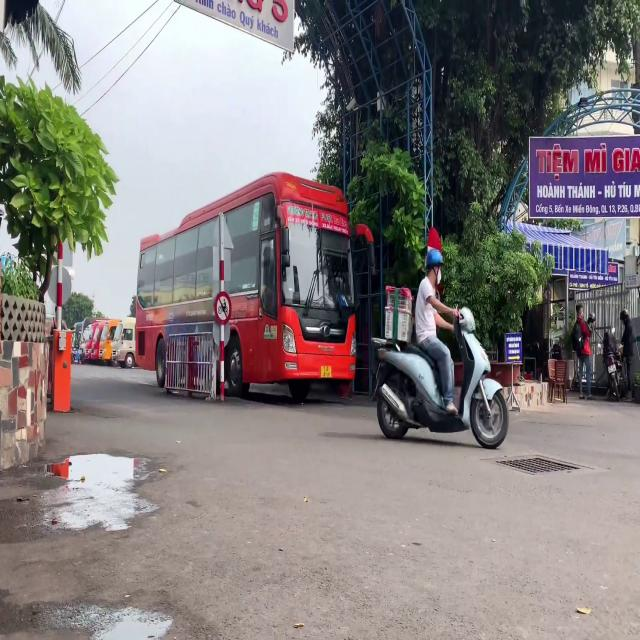bien_vang: (321, 362, 331, 380)
